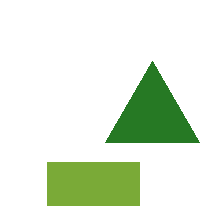rectangle: (47, 162, 139, 205)
triangle: (105, 61, 199, 142)
